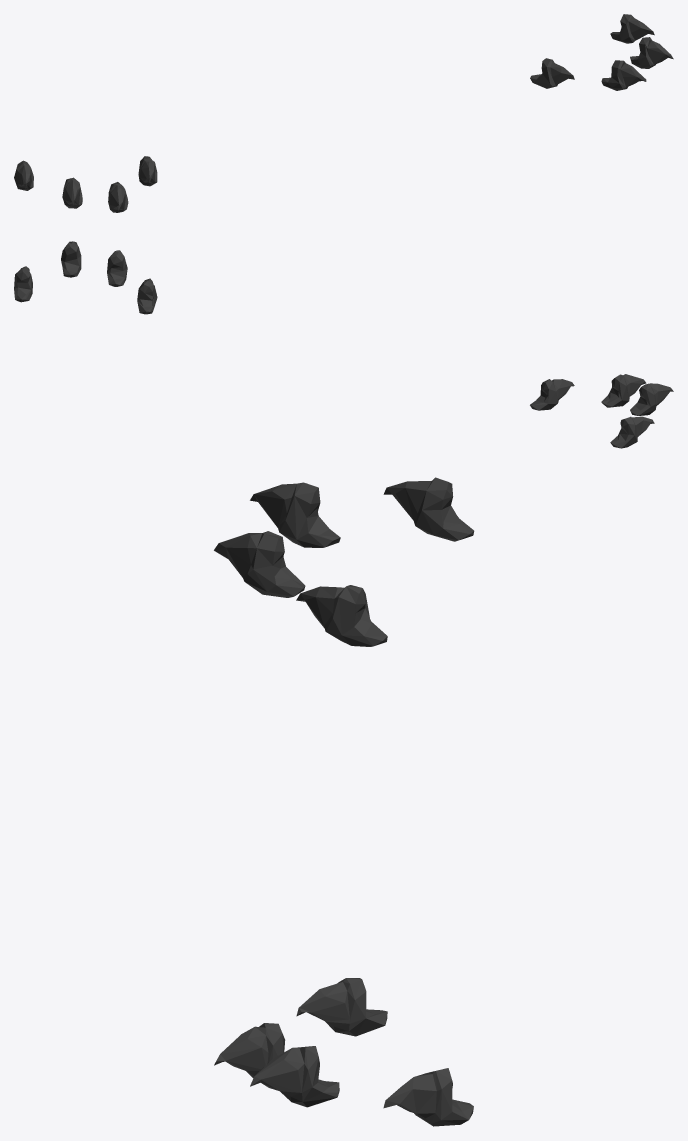
3 views of the same model, one above another, from view 1: azimuth 30°, elevation 25°; view 2: azimuth 150°, elevation 25°; view 3: azimuth 270°, elevation 25° (orthographic). The views are drawn at different scales.
Visible parts, largest first — view 1: HL_P3; view 2: HL_P3; view 3: HL_P3.
Boxes of the visible parts, x1,y1,x2,y2 form: HL_P3: (14, 14, 673, 212); HL_P3: (14, 241, 673, 448); HL_P3: (214, 477, 474, 1126).
Size of the model in its own units: 0.00719 by 0.000403 by 0.00129.
1 material, 1 textured.
